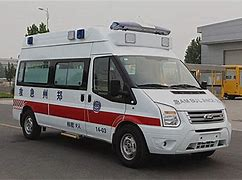specialcar: (20, 27, 223, 162)
